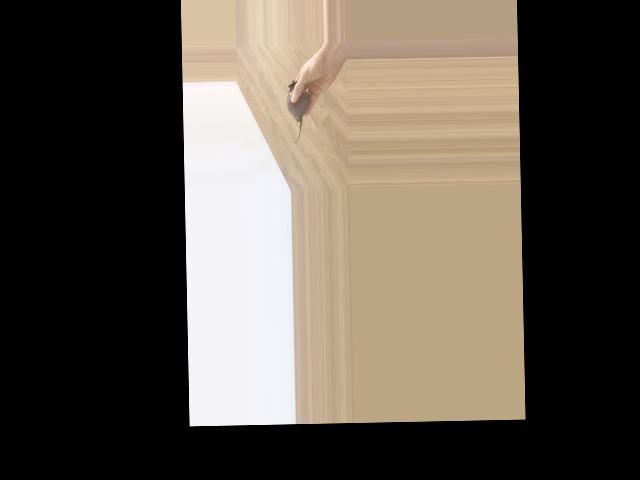beet: (286, 80, 310, 143)
